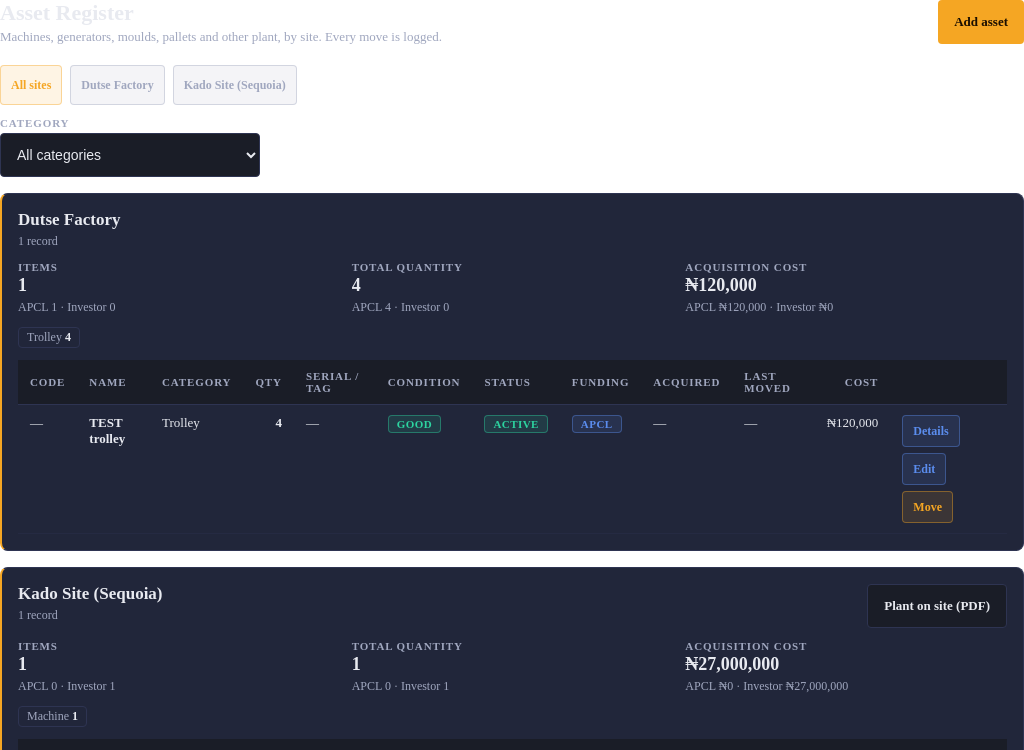
it: AssetRegister › a part move shows the split hint and the RPC message verbatim
This screenshot has width=1024, height=750.
Check: the text "TEST trolley" is shown, box [89,415,125,446]
Click the button "Move" at (928, 507), box [902,491,953,523]
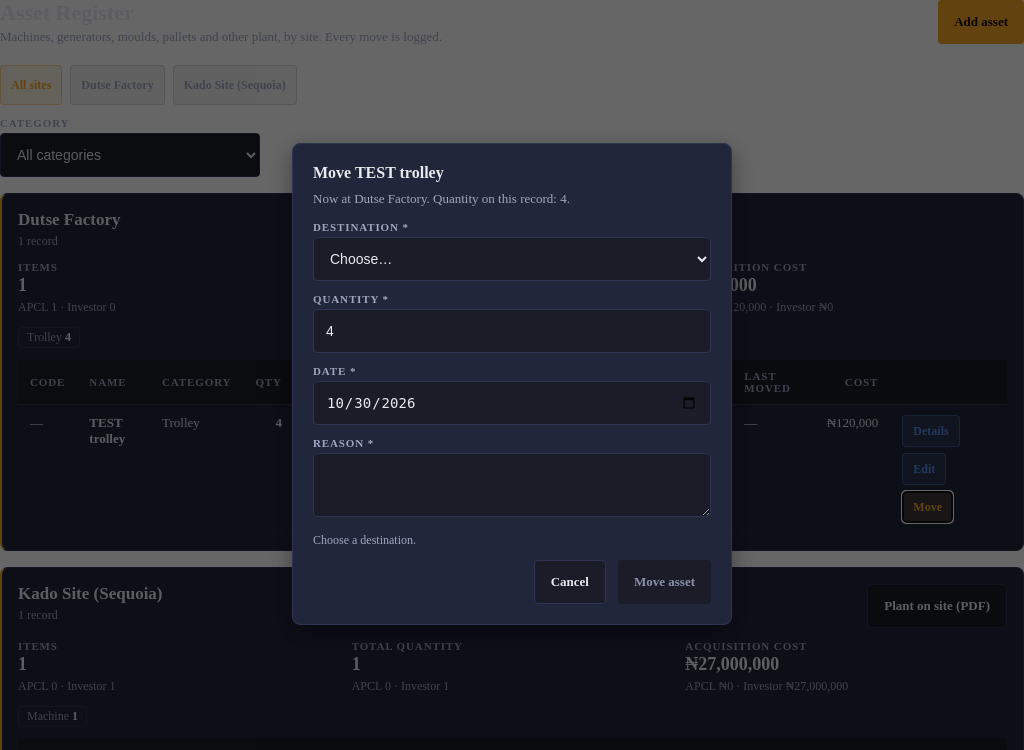
Select "Kado Site (Sequoia)" in the dropdown labelled "Destination *" at (512, 259), box [313,237,711,281]
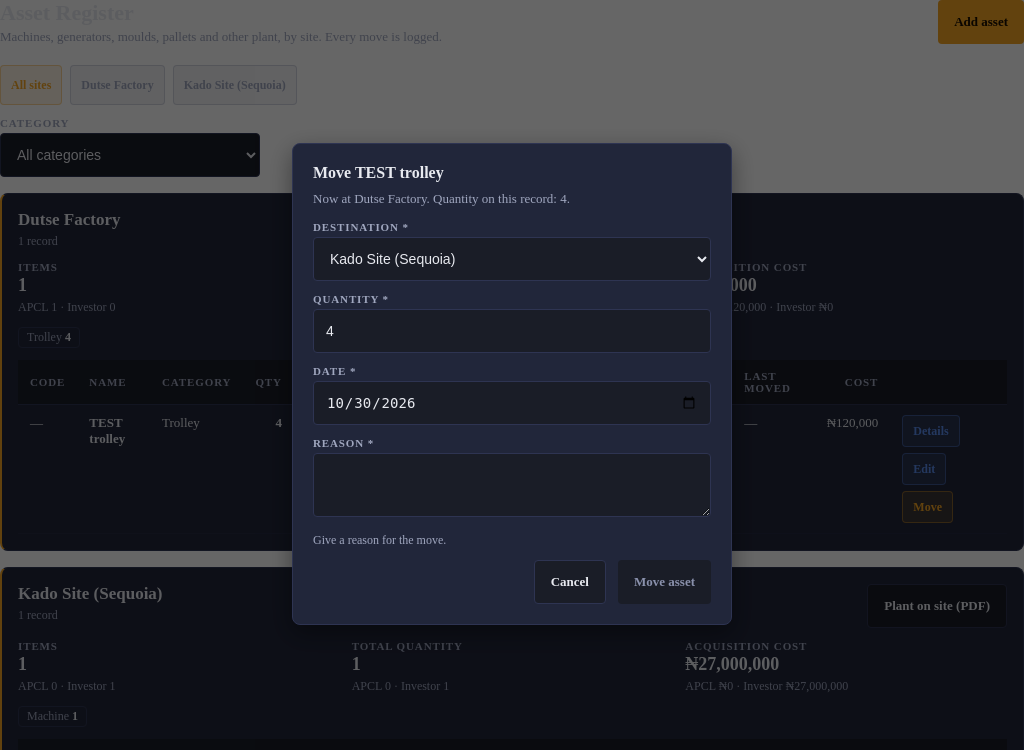
Replace the text in the number field labelled "Quantity *" with "1" at (512, 331), box [313,309,711,353]
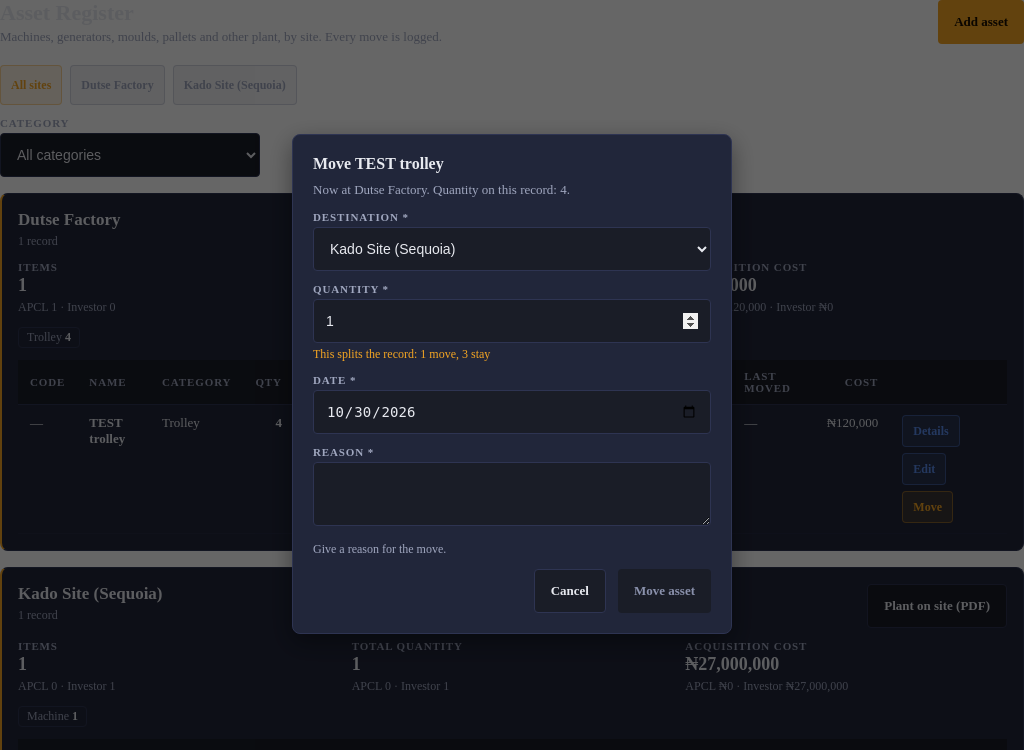
Check: the text "This splits the record: 1 move, 3 stay" is shown, box [313,347,490,361]
Type "TEST" into the text box labelled "Reason *" at (512, 494), box [313,462,711,526]
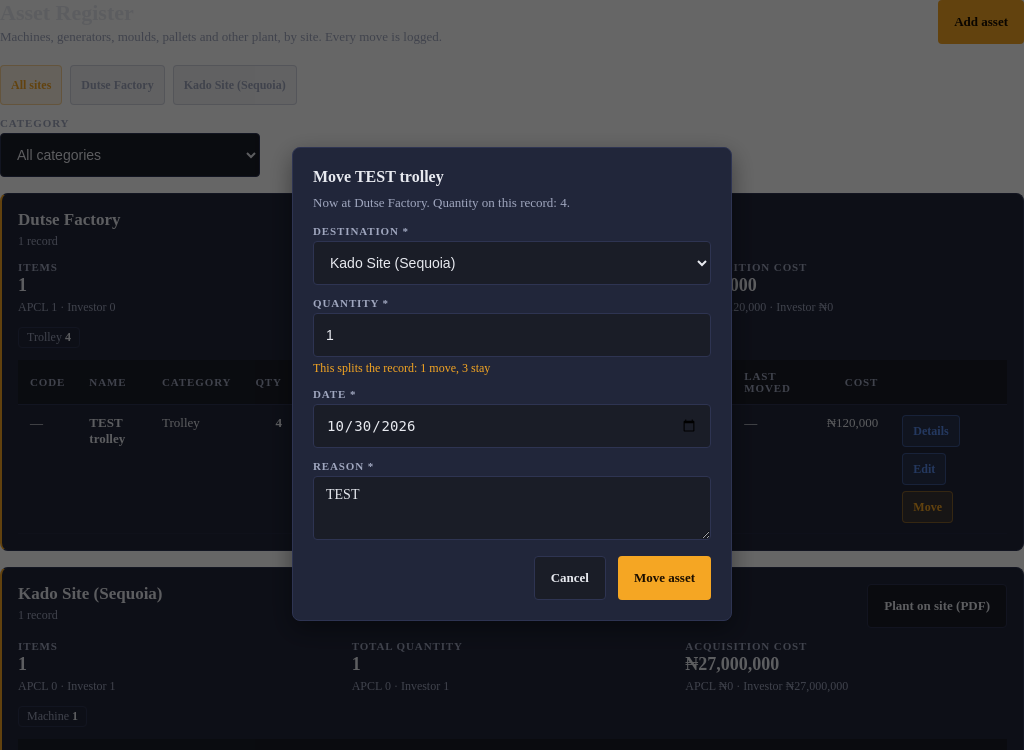
Click the button "Move asset" at (664, 578), box [618,556,711,600]
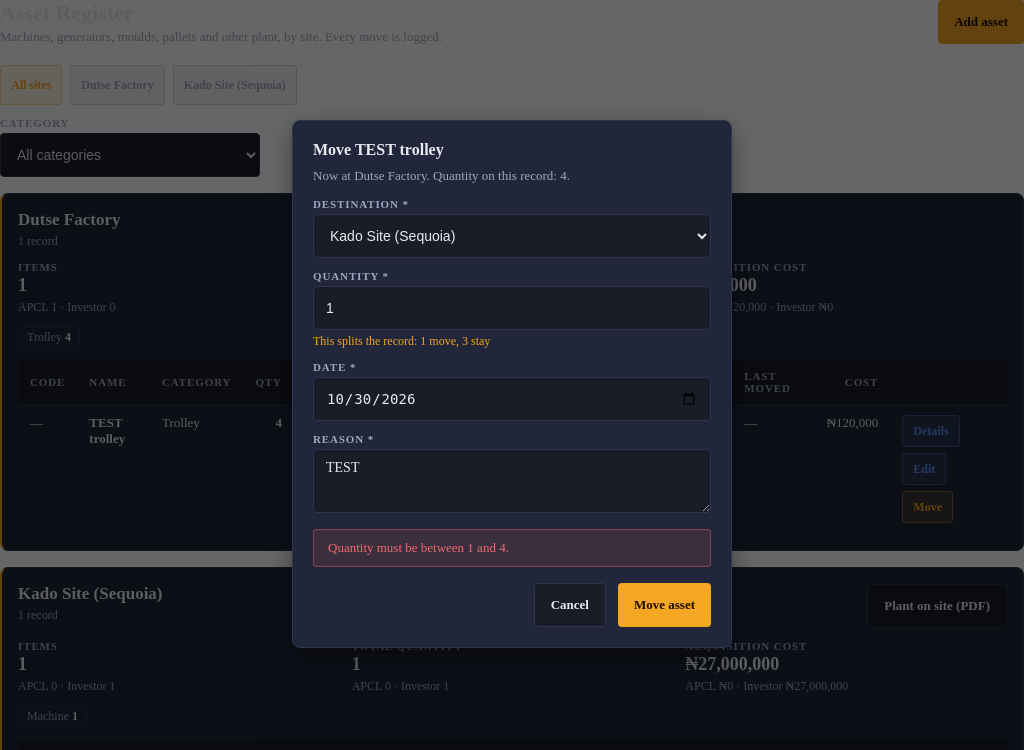
Check: the message reads "Quantity must be between 1 and 4.", box [328,540,509,555]
